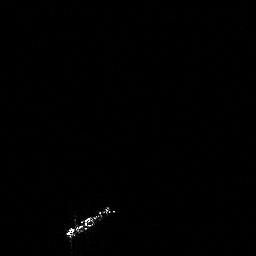ship: (65, 204, 116, 242)
